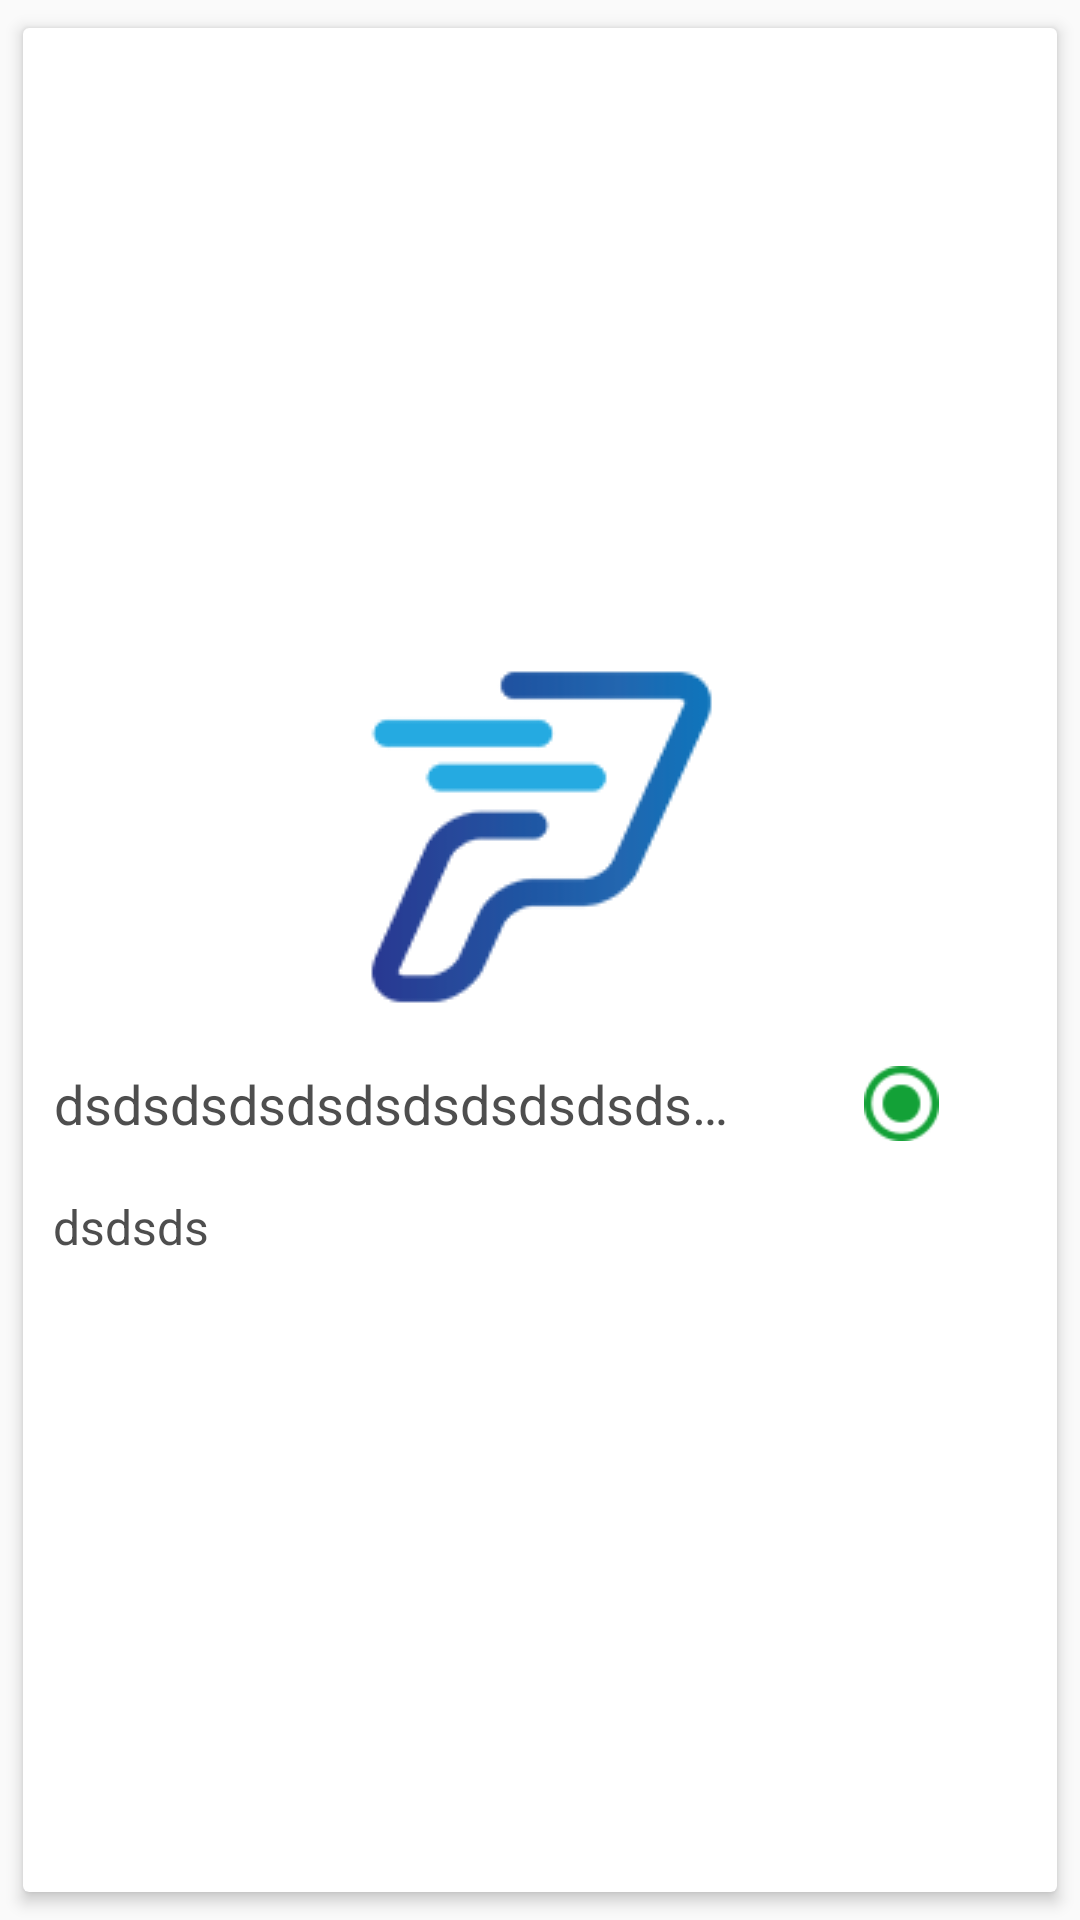

Icons on this 1080×1920 Android screen, each with its box as box=[x1, y1, x2, y2]:
radio: box=[864, 1066, 939, 1141]
